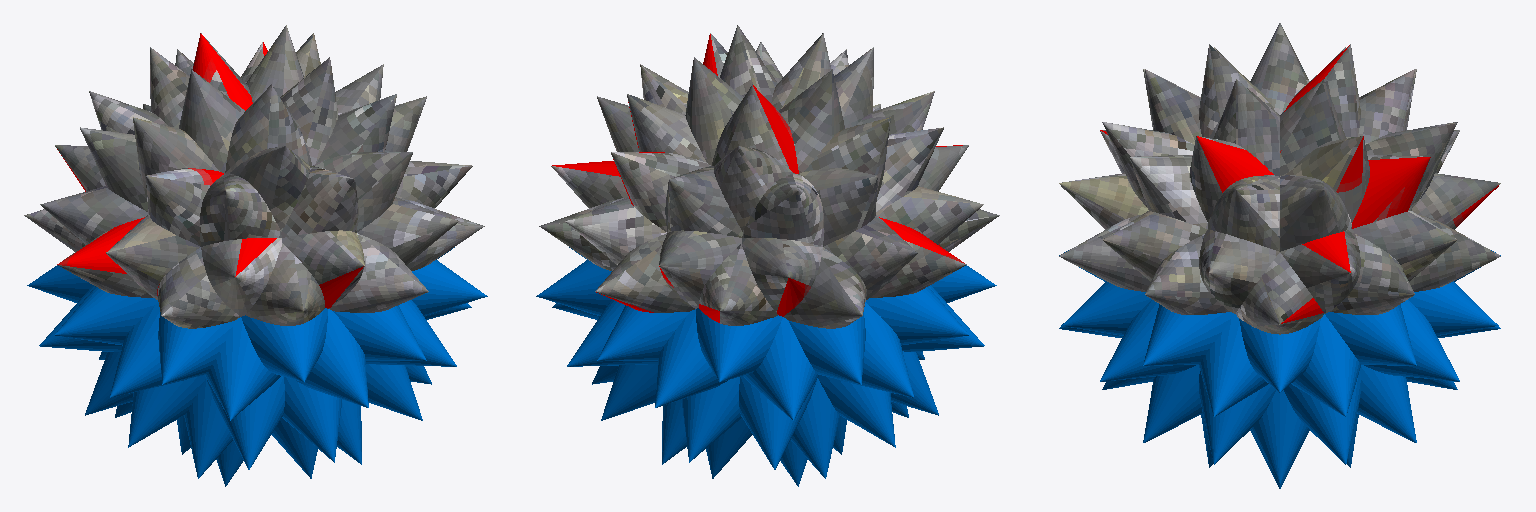
3 renders of one model, left to right at view 1: azimuth 30°, elevation 25°; view 2: azimuth 150°, elevation 25°; view 3: azimuth 270°, elevation 25°, orthographic.
Parts seen in each view (by area): view 1: Cone.068_Cone; view 2: Cone.068_Cone; view 3: Cone.068_Cone.
Boxes of the visible parts, box(x1,y1,x2,y2) form: Cone.068_Cone: box(24, 25, 487, 486); Cone.068_Cone: box(536, 25, 999, 486); Cone.068_Cone: box(1059, 23, 1500, 488).
Bounding box in the file's own units: 3.85 × 3.69 × 3.66.
2 materials, 1 textured.